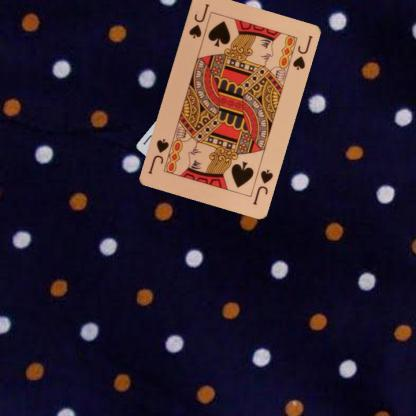Js: (186, 0, 211, 40), (250, 166, 274, 206)
